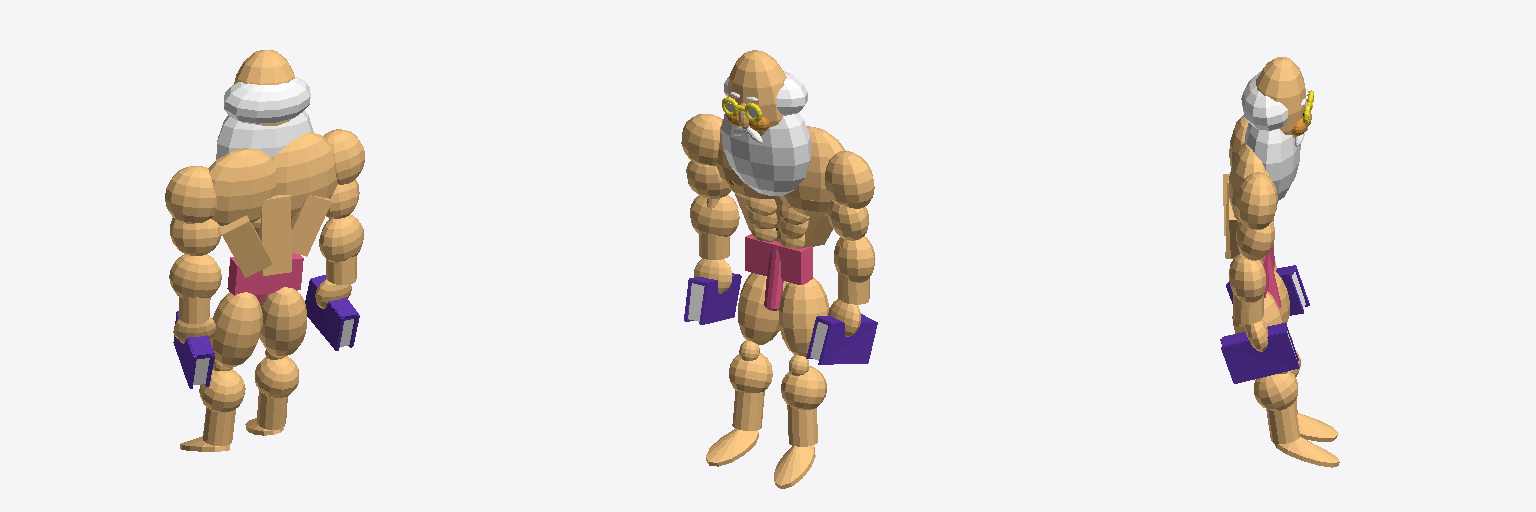
The model's file is God.obj.
The picture shows the model from 3 angles: view 1: azimuth 30°, elevation 25°; view 2: azimuth 150°, elevation 25°; view 3: azimuth 270°, elevation 25°; orthographic projection.
Parts seen in each view (by area): view 1: group[number redacted], group[number redacted], group[number redacted], group[number redacted], group[number redacted], group[number redacted], group[number redacted], group[number redacted], group[number redacted]; view 2: group[number redacted], group[number redacted], group[number redacted], group[number redacted], group[number redacted], group[number redacted], group[number redacted]; view 3: group[number redacted], group[number redacted], group[number redacted], group[number redacted], group[number redacted].
Part boxes in pixels (bbox=[...]): group[number redacted]: bbox=[180, 253, 306, 451]; group[number redacted]: bbox=[165, 166, 221, 388]; group[number redacted]: bbox=[305, 129, 364, 350]; group[number redacted]: bbox=[216, 50, 313, 159]; group[number redacted]: bbox=[208, 148, 276, 225]; group[number redacted]: bbox=[272, 132, 337, 218]; group[number redacted]: bbox=[258, 195, 291, 275]; group[number redacted]: bbox=[220, 215, 272, 277]; group[number redacted]: bbox=[291, 195, 331, 256]; group[number redacted]: bbox=[706, 234, 829, 488]; group[number redacted]: bbox=[721, 50, 810, 195]; group[number redacted]: bbox=[806, 151, 877, 364]; group[number redacted]: bbox=[681, 114, 741, 324]; group[number redacted]: bbox=[779, 126, 845, 216]; group[number redacted]: bbox=[716, 121, 776, 198]; group[number redacted]: bbox=[803, 215, 832, 247]; group[number redacted]: bbox=[1220, 172, 1299, 383]; group[number redacted]: bbox=[1241, 57, 1313, 200]; group[number redacted]: bbox=[1233, 244, 1339, 467]; group[number redacted]: bbox=[1229, 142, 1271, 222]; group[number redacted]: bbox=[1226, 215, 1309, 315].
Size of the model in its own units: 3.53 by 7.1 by 1.9.